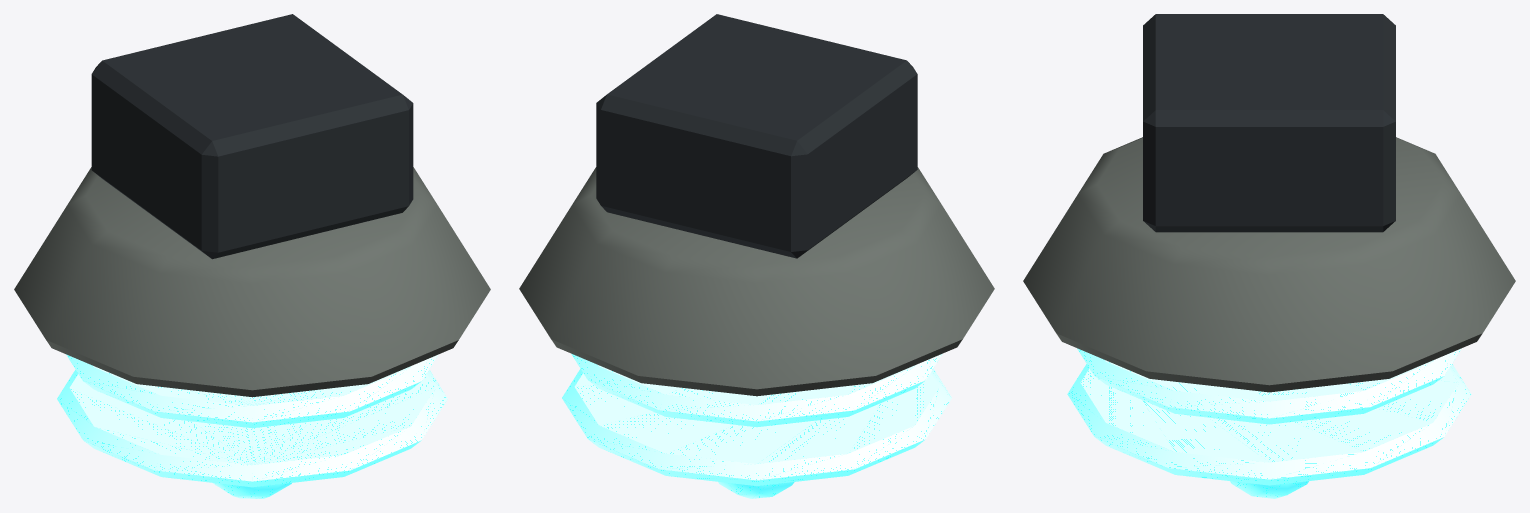
File: Utility_EMP.fbx
3 renders of one model, left to right at view 1: azimuth 30°, elevation 25°; view 2: azimuth 150°, elevation 25°; view 3: azimuth 270°, elevation 25°, orthographic. The views are drawn at different scales.
Parts seen in each view (by area): view 1: Utility_EMP; view 2: Utility_EMP; view 3: Utility_EMP.
Boxes of the visible parts, x1,y1,x2,y2 form: Utility_EMP: [14, 14, 490, 498]; Utility_EMP: [519, 14, 994, 498]; Utility_EMP: [1023, 14, 1515, 498].
Size of the model in its own units: 0.585 by 0.5627 by 0.585.
